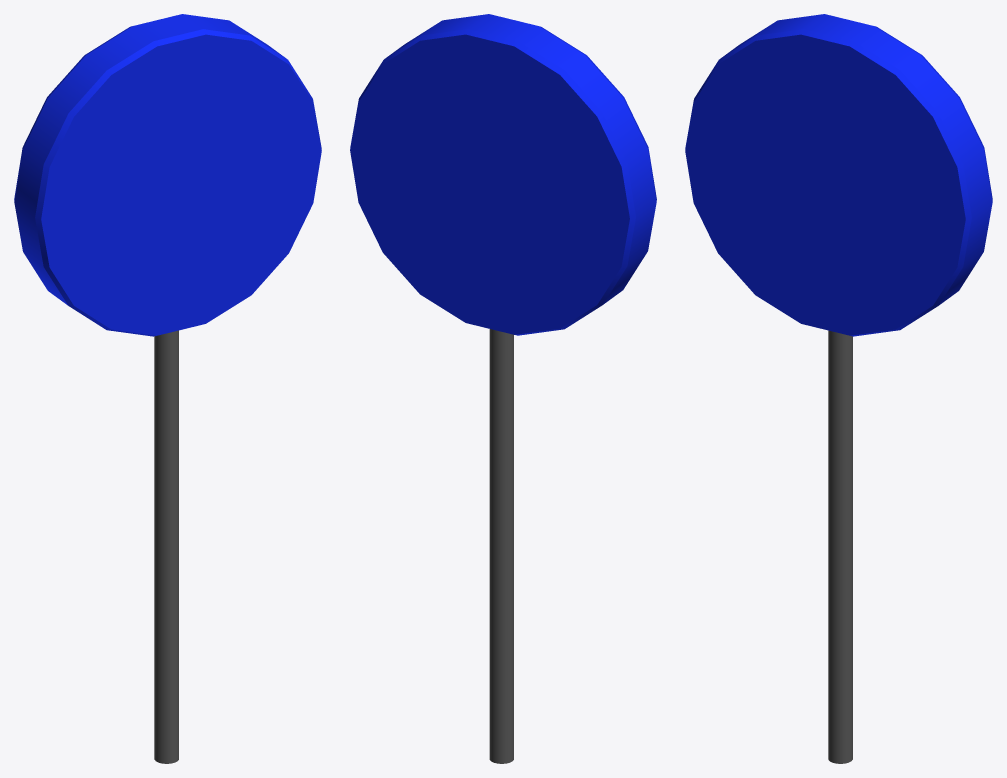
Rendered from lolipop Blue.FBX.
3 views of the same model, side by side, from view 1: azimuth 30°, elevation 25°; view 2: azimuth 150°, elevation 25°; view 3: azimuth 330°, elevation 25° (orthographic).
Parts seen in each view (by area): view 1: Cylinder004, Cylinder003; view 2: Cylinder004, Cylinder003; view 3: Cylinder004, Cylinder003.
Part boxes in pixels (x1,y1,x2,y2): Cylinder004: (14, 14, 321, 336); Cylinder003: (154, 330, 178, 763); Cylinder004: (350, 14, 656, 335); Cylinder003: (489, 329, 513, 763); Cylinder004: (685, 14, 992, 336); Cylinder003: (828, 330, 852, 763).
Size of the model in its own units: 16.39 by 40.01 by 2.67.
